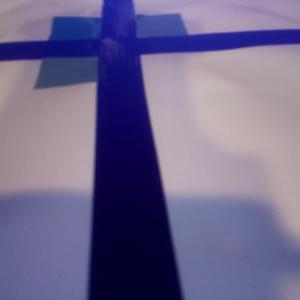bottom_left: (34, 41, 140, 88)
top_left: (49, 15, 135, 54)
top_right: (103, 12, 188, 50)
